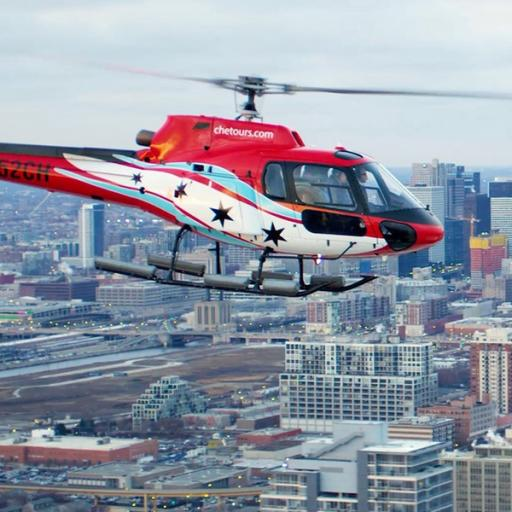helicopter: (4, 42, 496, 307)
